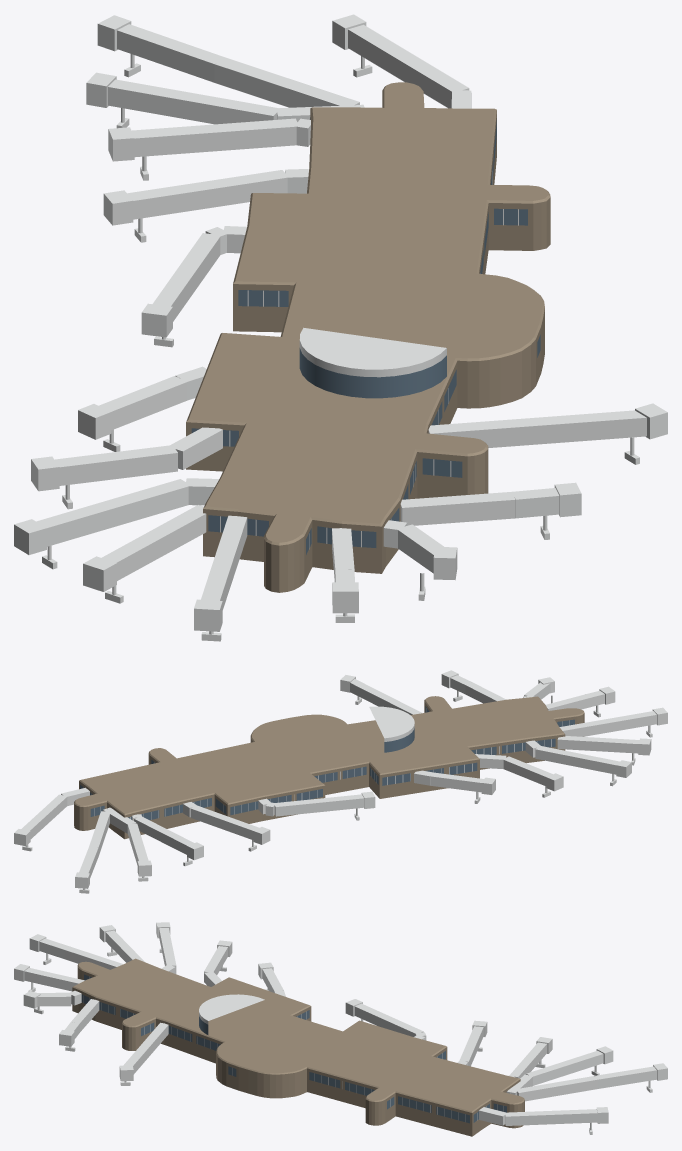
The model's file is dal-dfw-terminal-e-satellite.detail.glb.
The picture shows the model from 3 angles, top to bottom: view 1: azimuth 30°, elevation 25°; view 2: azimuth 150°, elevation 25°; view 3: azimuth 270°, elevation 25°; orthographic projection. The views are drawn at different scales.
Visible parts, largest first — view 1: DFW Airport Terminal E Satellite; view 2: DFW Airport Terminal E Satellite; view 3: DFW Airport Terminal E Satellite.
Boxes of the visible parts, bbox=[...] form: DFW Airport Terminal E Satellite: bbox=[14, 14, 667, 641]; DFW Airport Terminal E Satellite: bbox=[14, 670, 667, 893]; DFW Airport Terminal E Satellite: bbox=[14, 922, 667, 1136].
Bounding box in the file's own units: 133 × 12.5 × 190.
